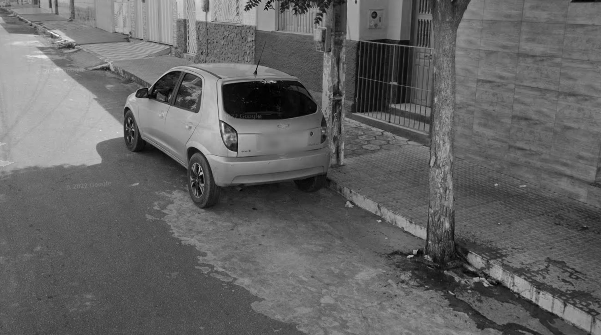car: (116, 37, 336, 218)
